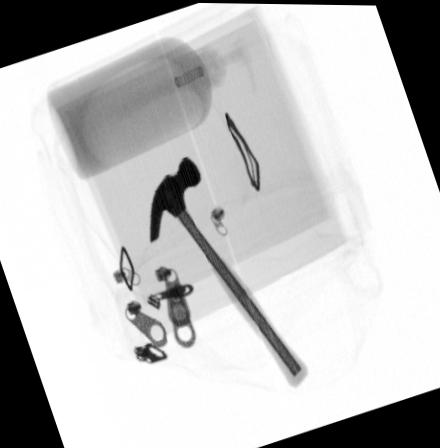Hammer: (148, 155, 309, 386)
